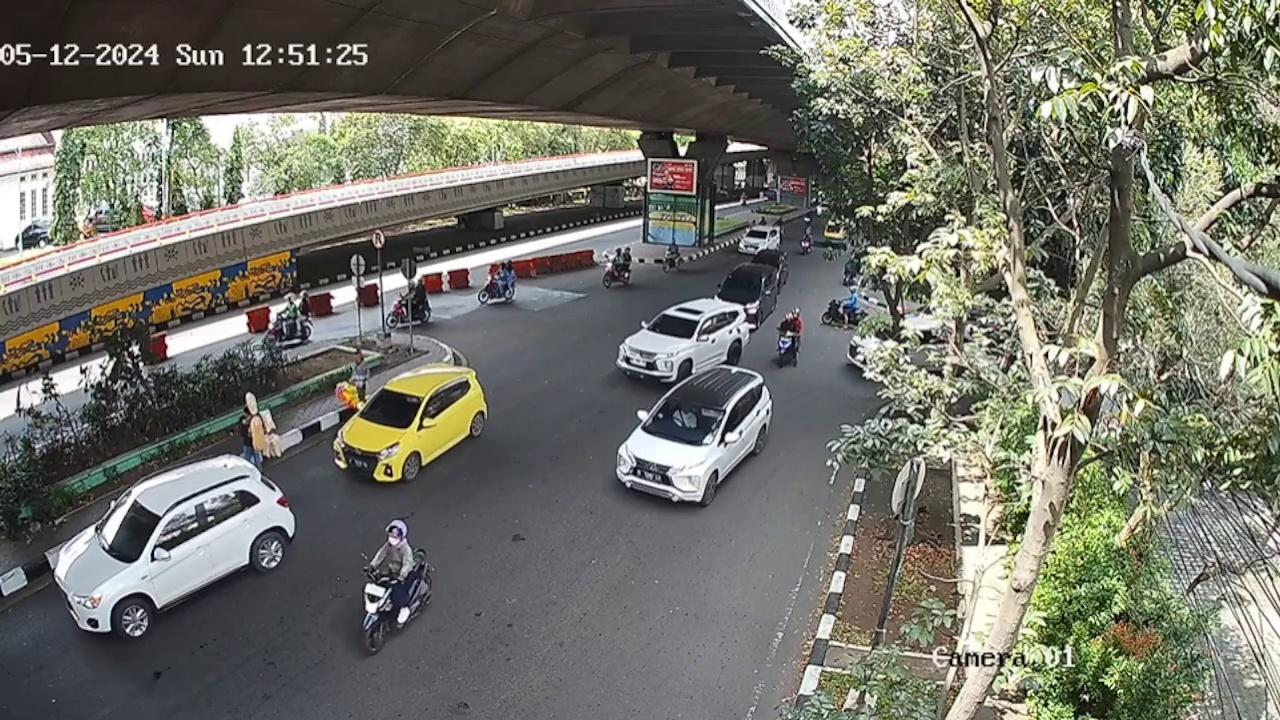pakai: (671, 408, 696, 437)
windshield: (641, 396, 726, 444), (355, 387, 421, 425), (643, 311, 698, 344)
